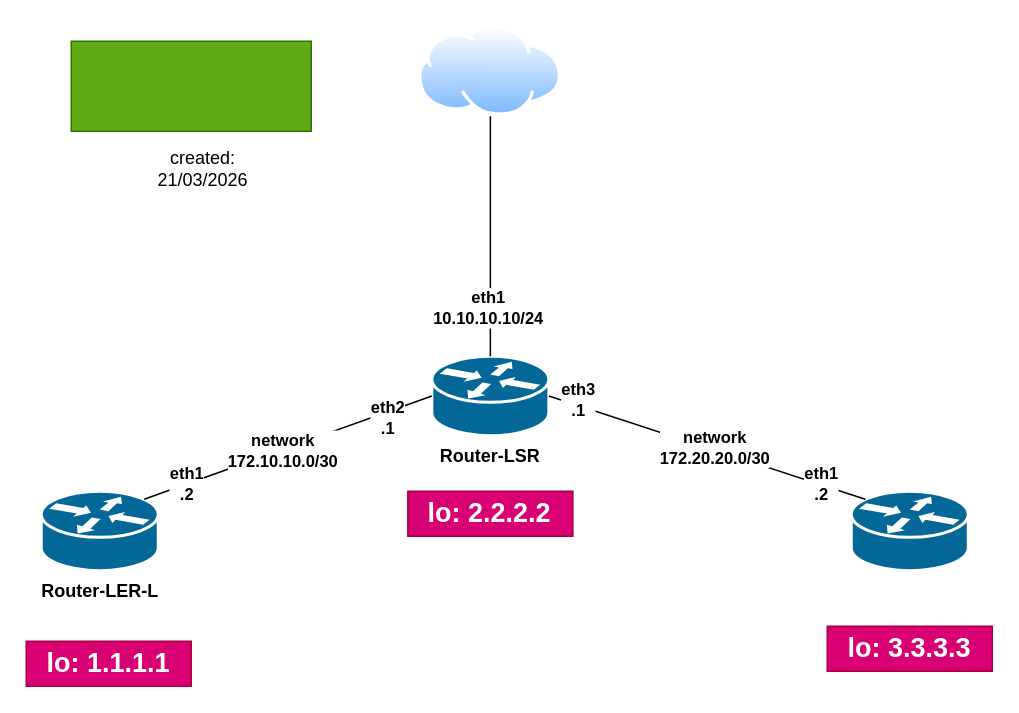
The diagram is 1019 pixels wide and 713 high, and some of its shapes have lost their labels. Each missing label, with the centre of its shape:
MPLS-BASIC: pixel 190 85
Router-LER-R: pixel 909 530
virbr1 10.10.10.1/24: pixel 489 71
